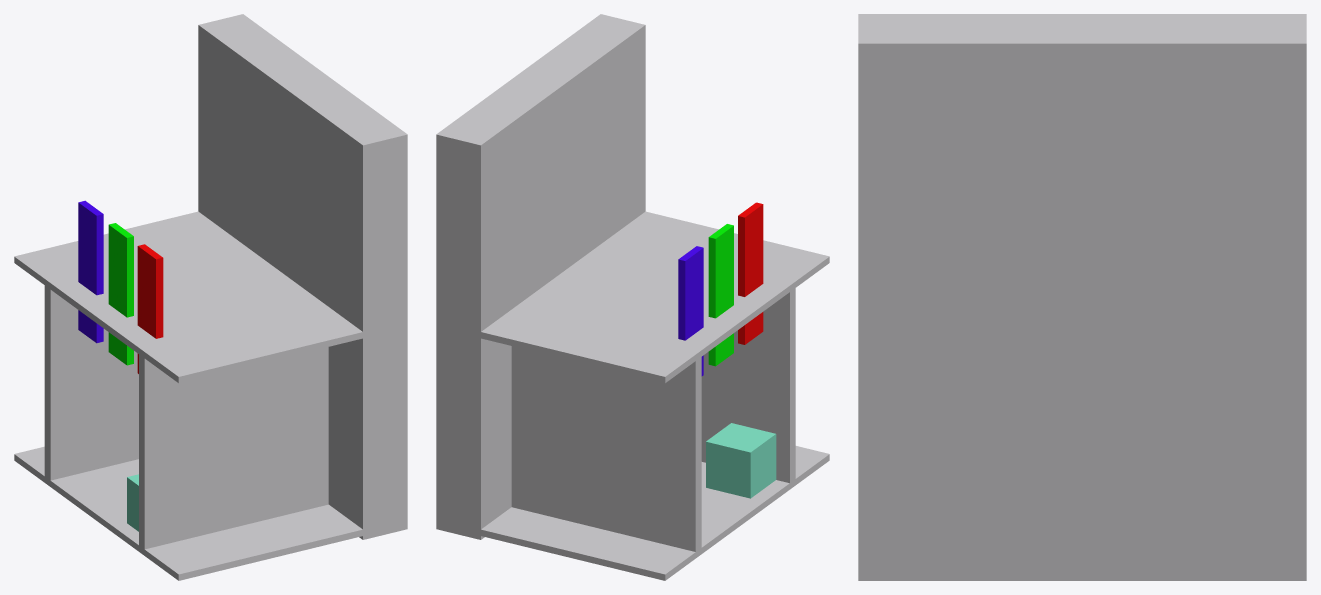
The picture shows the model from 3 angles, left to right: view 1: azimuth 30°, elevation 25°; view 2: azimuth 150°, elevation 25°; view 3: azimuth 270°, elevation 25°; orthographic projection. The views are drawn at different scales.
Visible parts, largest first — view 1: StaticMeshActor_2_StaticMeshComponent0, StaticMeshActor_5_StaticMeshComponent0, StaticMeshActor_6_StaticMeshComponent0, StaticMeshActor_4_StaticMeshComponent0, StaticMeshActor_3_StaticMeshComponent0, StaticMeshActor_8_StaticMeshComponent0, StaticMeshActor_7_StaticMeshComponent0, StaticMeshActor_9_StaticMeshComponent0, StaticMeshActor_14_StaticMeshComponent0; view 2: StaticMeshActor_2_StaticMeshComponent0, StaticMeshActor_4_StaticMeshComponent0, StaticMeshActor_6_StaticMeshComponent0, StaticMeshActor_3_StaticMeshComponent0, StaticMeshActor_5_StaticMeshComponent0, StaticMeshActor_14_StaticMeshComponent0, StaticMeshActor_9_StaticMeshComponent0, StaticMeshActor_8_StaticMeshComponent0, StaticMeshActor_7_StaticMeshComponent0; view 3: StaticMeshActor_2_StaticMeshComponent0.
Boxes of the visible parts, x1,y1,x2,y2 form: StaticMeshActor_2_StaticMeshComponent0: [198, 14, 407, 539]; StaticMeshActor_5_StaticMeshComponent0: [139, 347, 328, 549]; StaticMeshActor_6_StaticMeshComponent0: [14, 211, 365, 383]; StaticMeshActor_4_StaticMeshComponent0: [44, 285, 138, 480]; StaticMeshActor_3_StaticMeshComponent0: [14, 446, 365, 580]; StaticMeshActor_8_StaticMeshComponent0: [108, 223, 133, 365]; StaticMeshActor_7_StaticMeshComponent0: [78, 200, 103, 343]; StaticMeshActor_9_StaticMeshComponent0: [137, 244, 163, 373]; StaticMeshActor_14_StaticMeshComponent0: [127, 474, 138, 531]; StaticMeshActor_2_StaticMeshComponent0: [436, 14, 645, 539]; StaticMeshActor_4_StaticMeshComponent0: [511, 346, 701, 551]; StaticMeshActor_6_StaticMeshComponent0: [481, 211, 829, 383]; StaticMeshActor_3_StaticMeshComponent0: [481, 446, 829, 580]; StaticMeshActor_5_StaticMeshComponent0: [701, 288, 795, 483]; StaticMeshActor_14_StaticMeshComponent0: [706, 423, 776, 498]; StaticMeshActor_9_StaticMeshComponent0: [738, 202, 763, 344]; StaticMeshActor_8_StaticMeshComponent0: [708, 224, 733, 366]; StaticMeshActor_7_StaticMeshComponent0: [678, 246, 703, 376]; StaticMeshActor_2_StaticMeshComponent0: [858, 14, 1306, 580].
Size of the model in its own units: 5.11 by 8.42 by 6.37.
